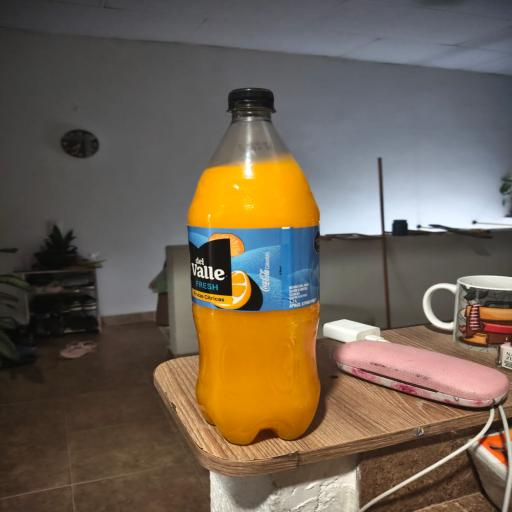Jugo del valle: (138, 70, 348, 466)
